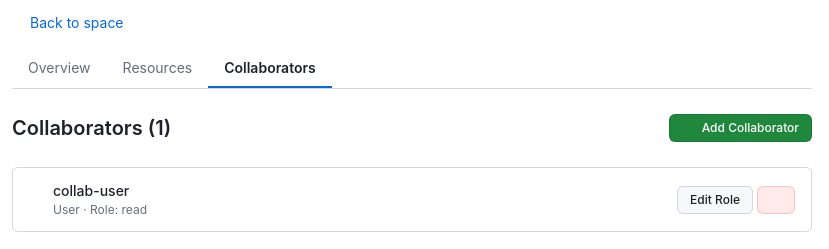
Test: CollaboratorsPage › enters edit role mode
The width and height of the screenshot is (829, 249).
Click the button "Edit Role": (715,200) top-left (677, 186), bottom-right (753, 214)
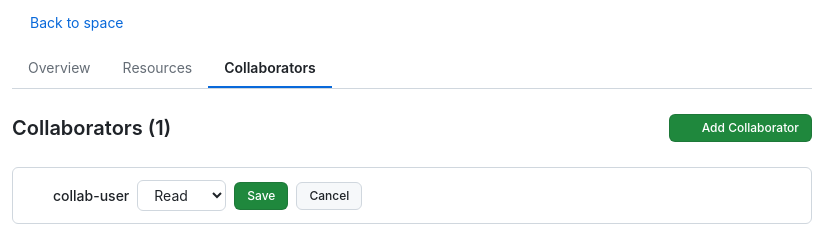
Expected: the button "Save" is shown, top-left (234, 182), bottom-right (288, 210)
Expected: the button "Cancel" is shown, top-left (296, 182), bottom-right (362, 210)
